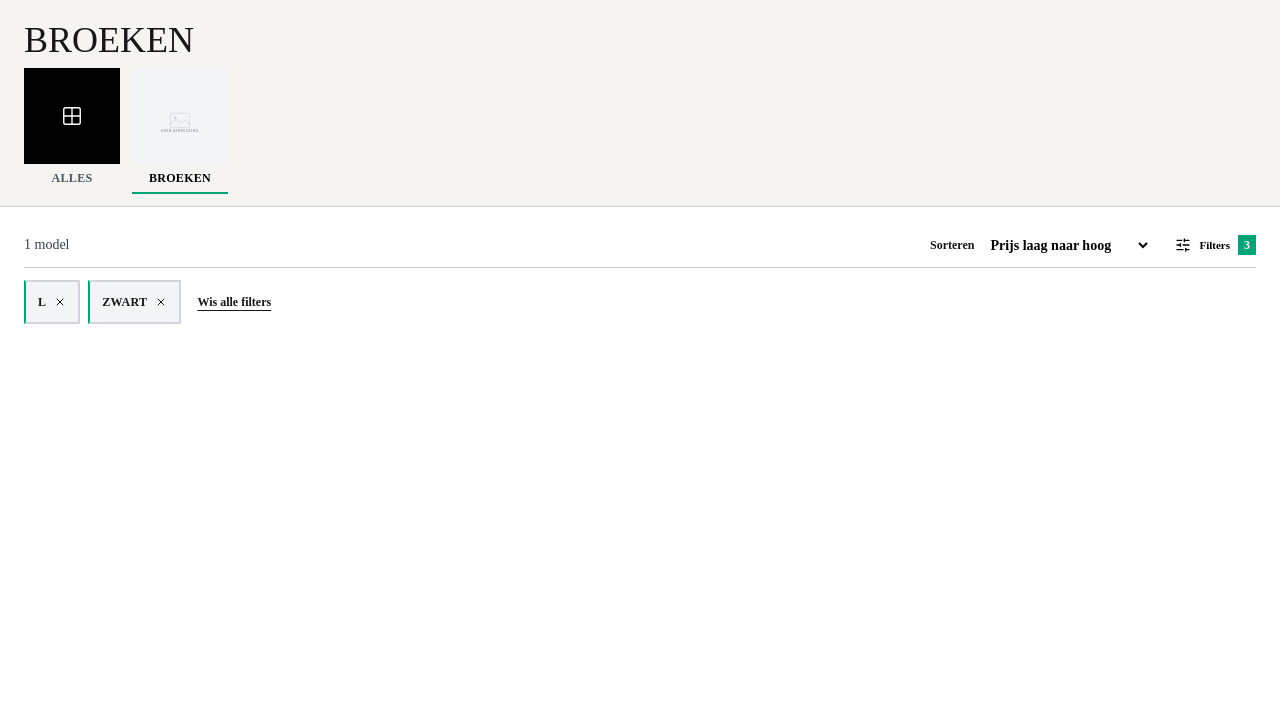
keeps the category when clearing refinements and exposes selections in collapsed groups
Click the button with aria-label "Filters & Sorteren" at [1210, 245], box [1164,223,1256,267]
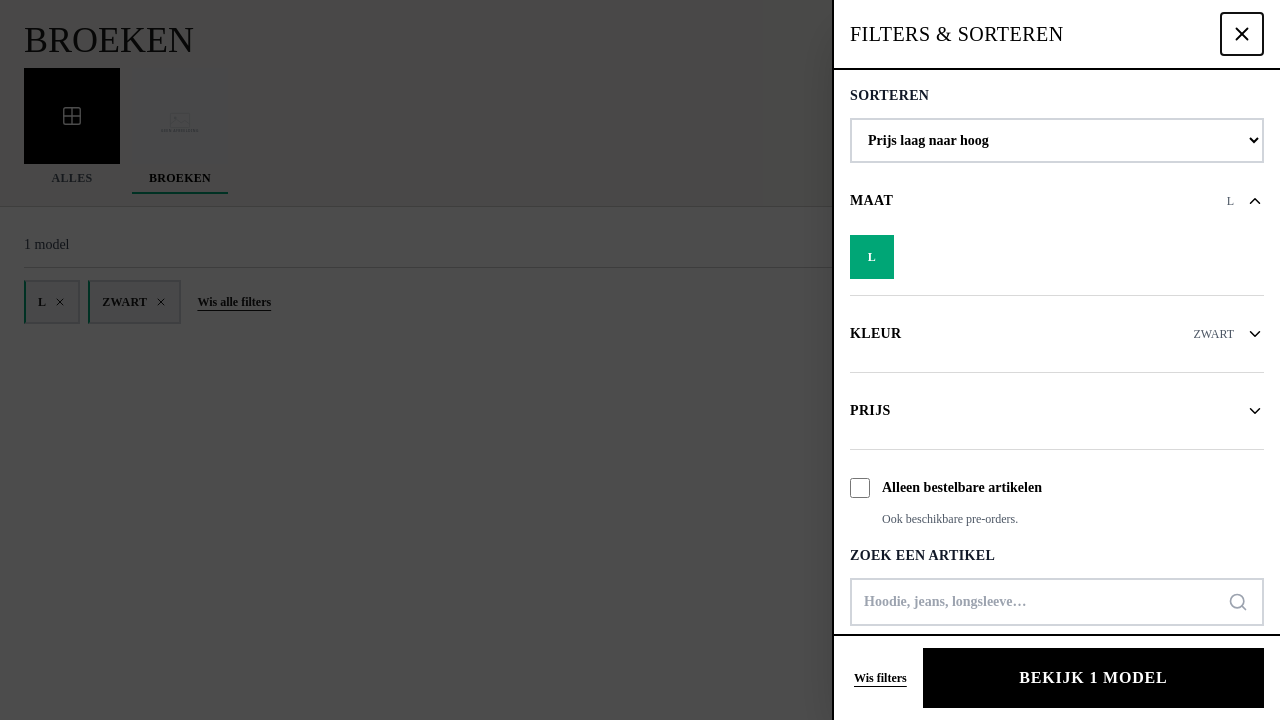
Click the button with aria-label "Kleur: ZWART" at [876, 334], box [850,312,1264,356]
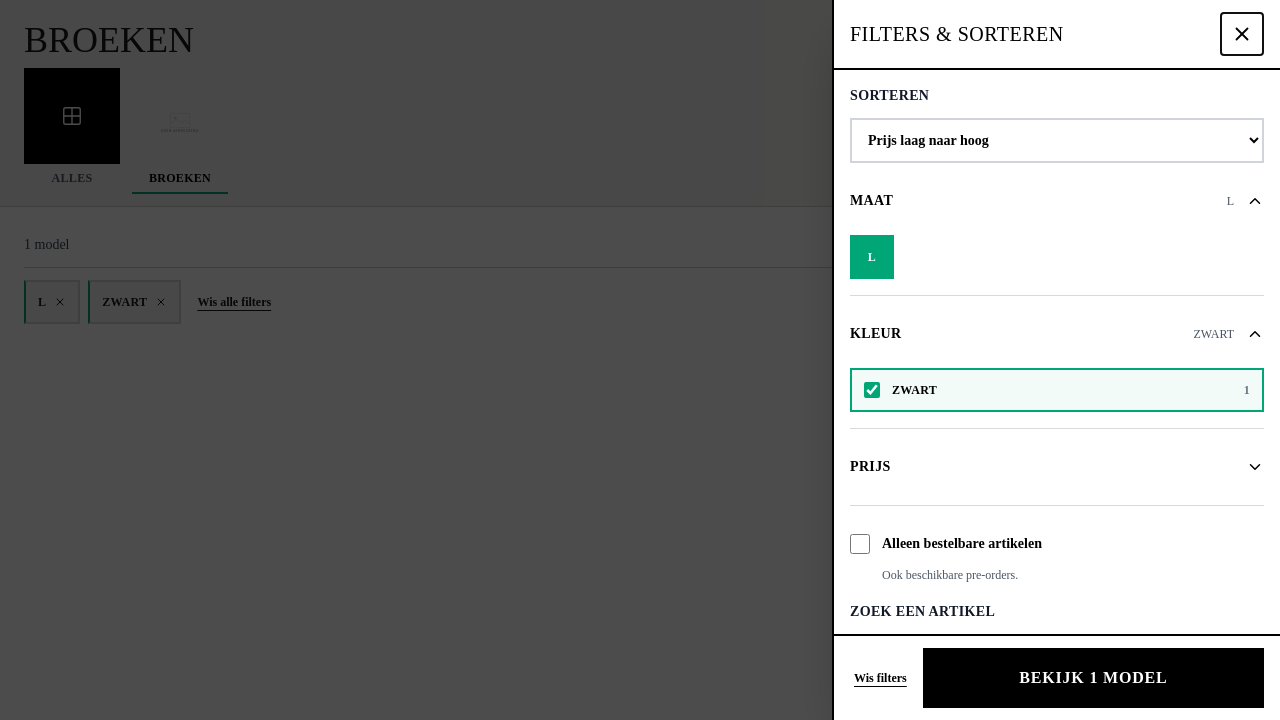
Now the checkbox labelled "ZWART 1" is checked, box [864,382,880,398]
Click the button with aria-label "Kleur: ZWART" at [876, 334], box [850,312,1264,356]
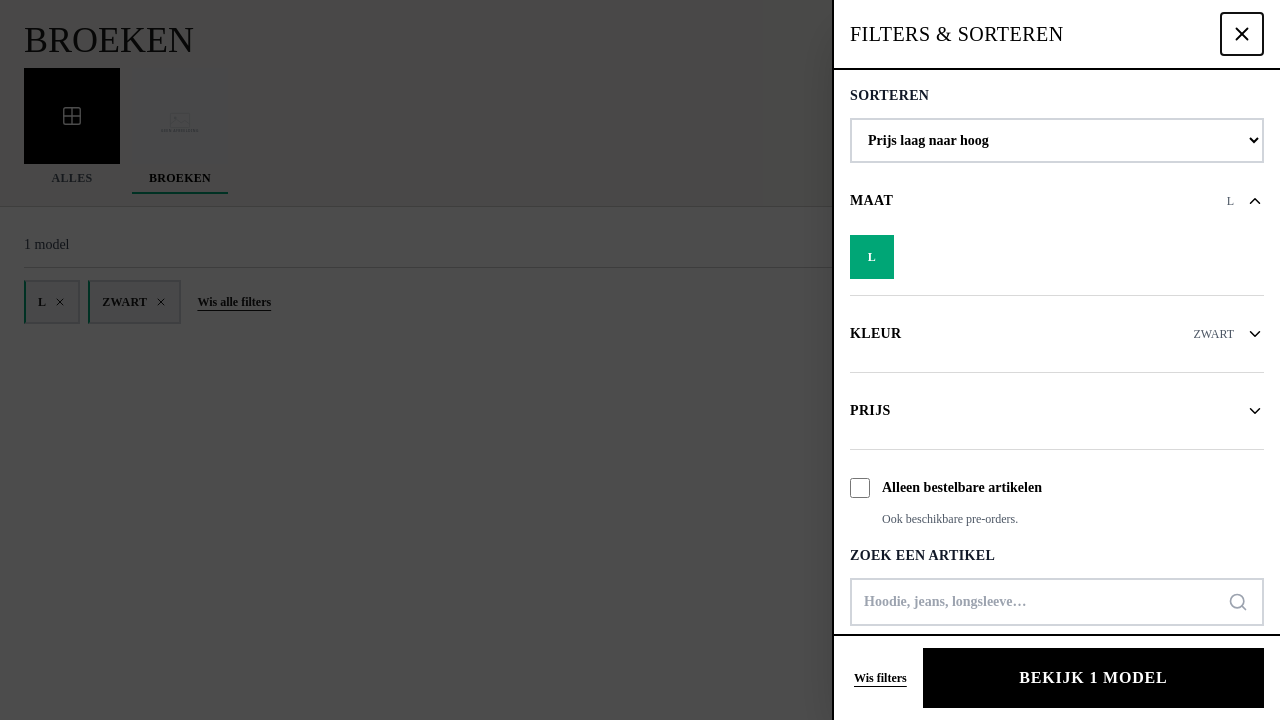
Now the number of buttons "Wis filters" is 1
Now the button with aria-label "Kleur: ZWART" is collapsed, box [850,312,1264,356]
Click the button "Wis filters" at [880, 678], box [850,654,911,702]
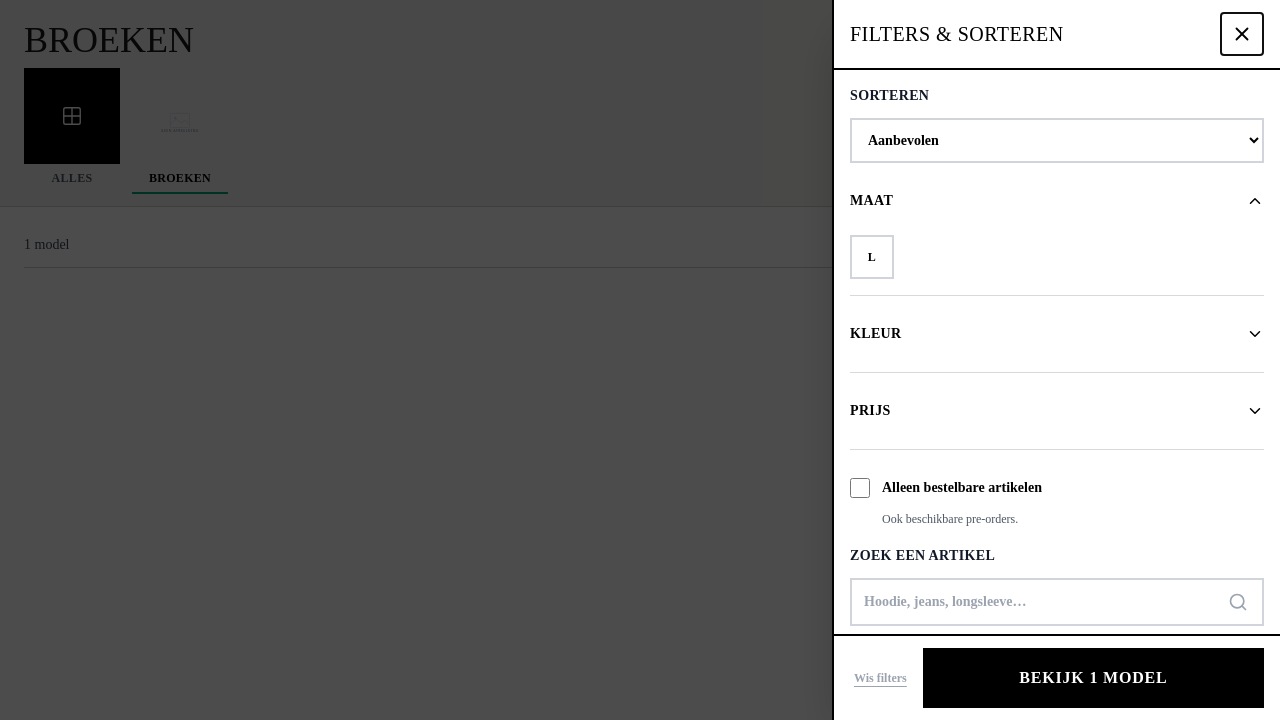
Now the button "Bekijk 1 model" is enabled, box [923,648,1264,708]
Now the button "Kleur" is collapsed, box [850,312,1264,356]
Now the button "Wis filters" is disabled, box [850,654,911,702]
